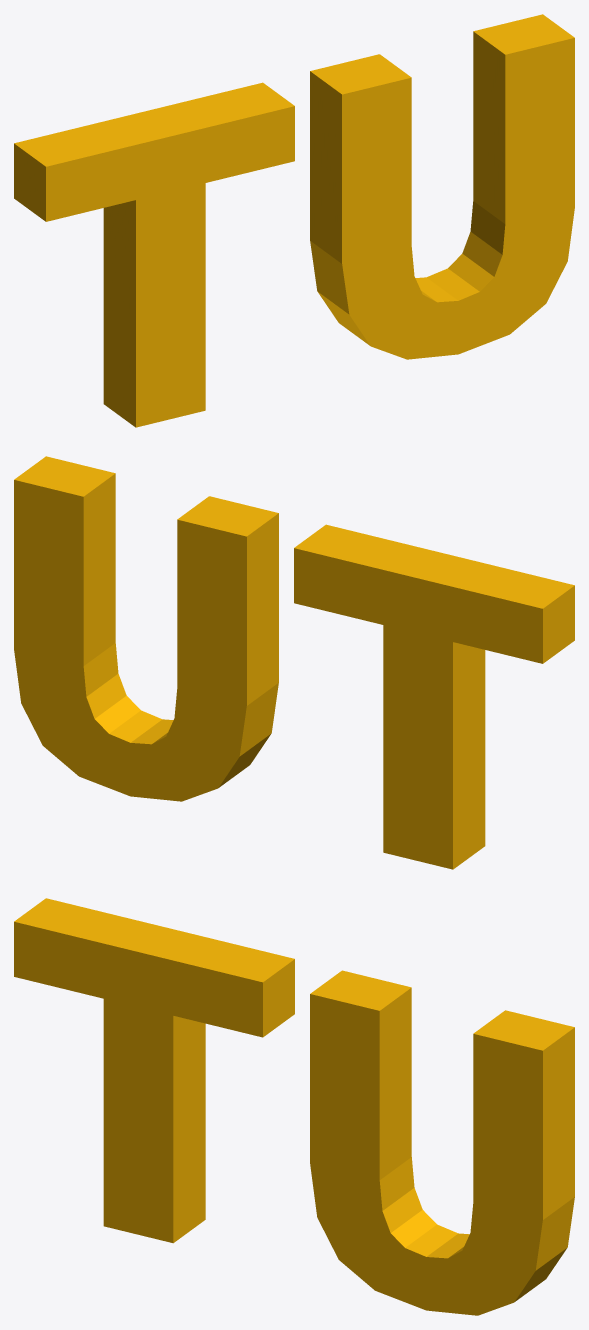
The model's file is suku_besar_tu.glb.
3 views of the same model, one above another, from view 1: azimuth 30°, elevation 25°; view 2: azimuth 150°, elevation 25°; view 3: azimuth 330°, elevation 25° (orthographic).
Parts seen in each view (by area): view 1: geometry_0; view 2: geometry_0; view 3: geometry_0.
Part boxes in pixels (<box>): geometry_0: <box>14,14,574,427</box>; geometry_0: <box>14,456,574,869</box>; geometry_0: <box>14,898,574,1315</box>.
Bounding box in the file's own units: 14.27 × 7.43 × 1.5.
